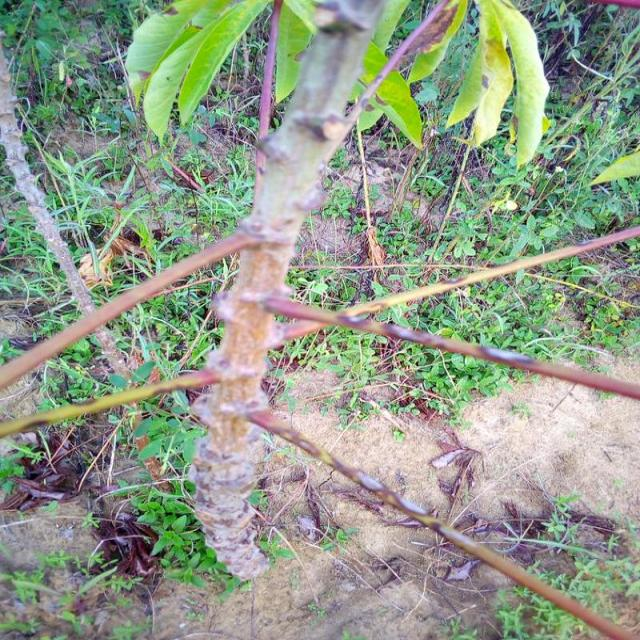cassava leaf: (446, 0, 550, 169)
